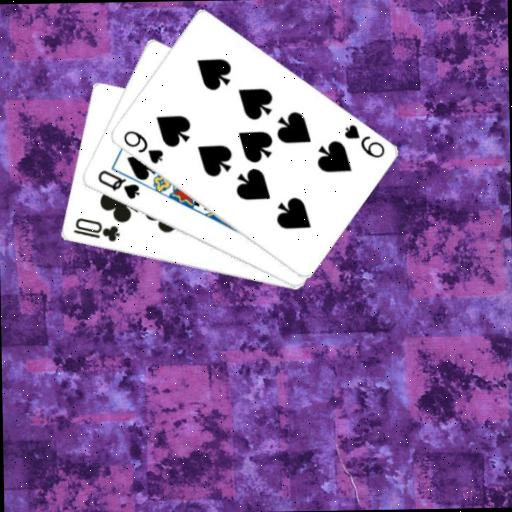10C: (70, 215, 121, 245)
9S: (340, 121, 387, 161), (119, 127, 165, 167)
QS: (94, 166, 142, 202)
